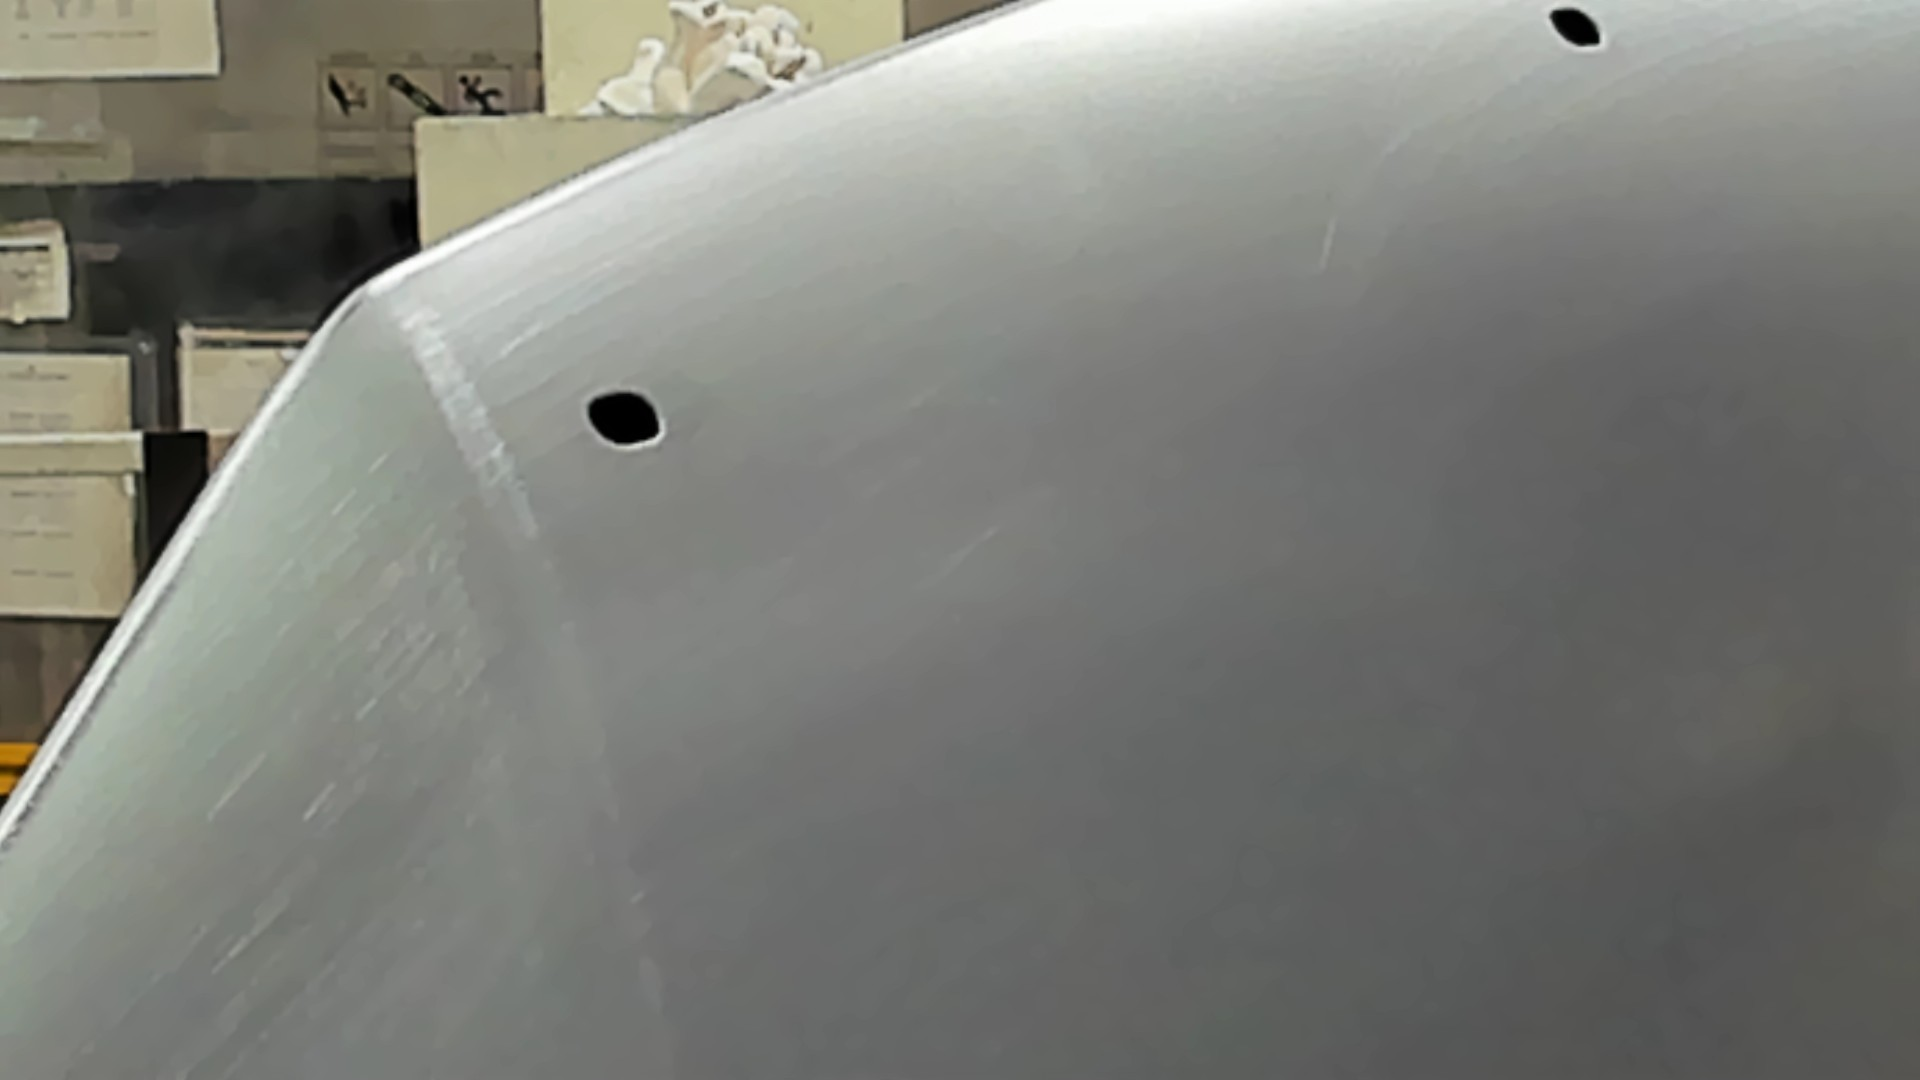amorfo: (583, 377, 670, 455), (1539, 1, 1613, 55)
capo: (802, 117, 1920, 1080)
